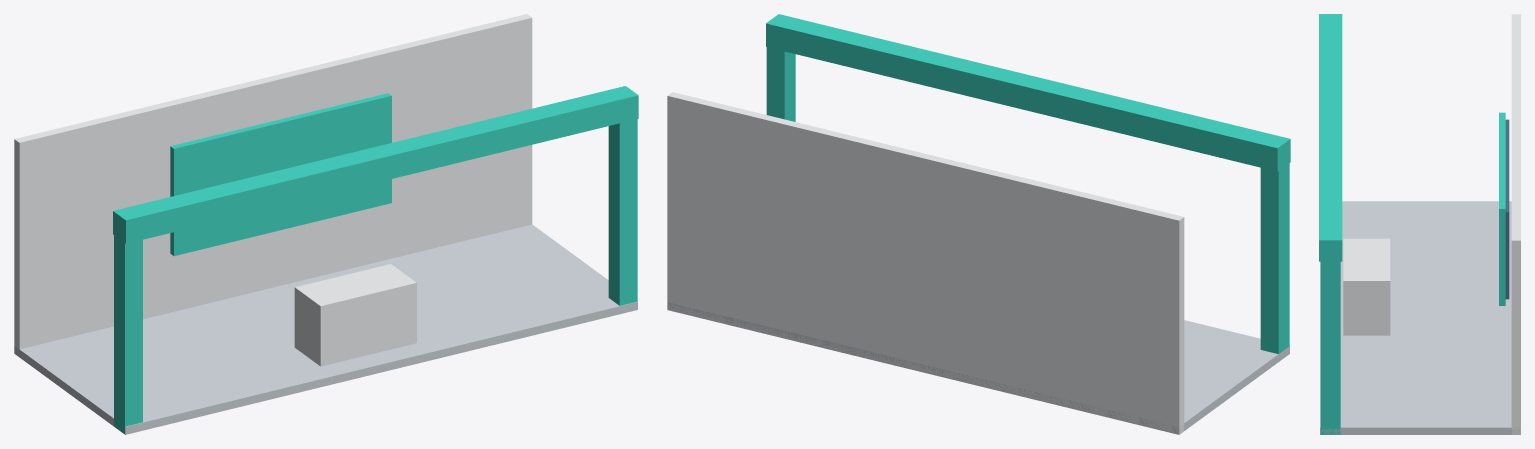
3 views of the same model, side by side, from view 1: azimuth 30°, elevation 25°; view 2: azimuth 150°, elevation 25°; view 3: azimuth 270°, elevation 25° (orthographic). The views are drawn at different scales.
Visible parts, largest first — view 1: Exhibition Booth Concept; view 2: Exhibition Booth Concept; view 3: Exhibition Booth Concept.
Boxes of the visible parts, box(x1,y1,x2,y2) form: Exhibition Booth Concept: box(14, 14, 638, 434); Exhibition Booth Concept: box(667, 14, 1290, 434); Exhibition Booth Concept: box(1319, 14, 1520, 434).
Bounding box in the file's own units: 8 × 3.2 × 3.01.
